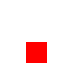square: (26, 42, 46, 62)
